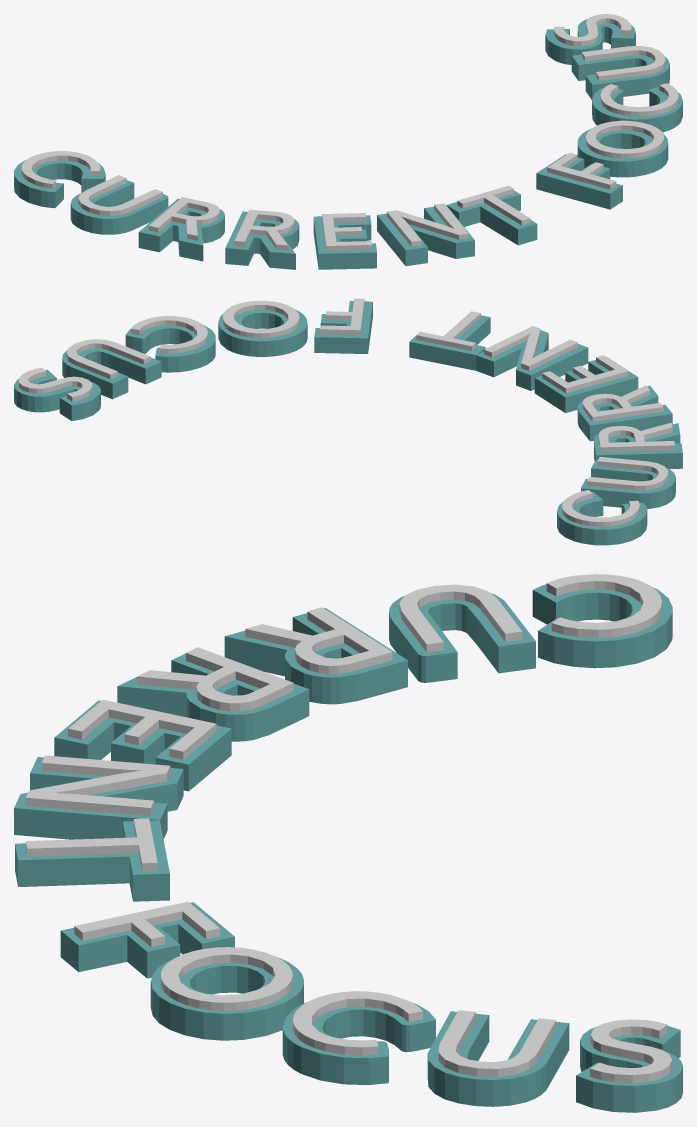
Rendered from SIDE5-title.glb.
3 views of the same model, one above another, from view 1: azimuth 30°, elevation 25°; view 2: azimuth 150°, elevation 25°; view 3: azimuth 270°, elevation 25° (orthographic). The views are drawn at different scales.
Parts seen in each view (by area): view 1: Mesh_Mesh_head_geo.001_lambert2SG.001; view 2: Mesh_Mesh_head_geo.001_lambert2SG.001; view 3: Mesh_Mesh_head_geo.001_lambert2SG.001.
Boxes of the visible parts, x1,y1,x2,y2 form: Mesh_Mesh_head_geo.001_lambert2SG.001: [14, 14, 682, 269]; Mesh_Mesh_head_geo.001_lambert2SG.001: [14, 298, 682, 545]; Mesh_Mesh_head_geo.001_lambert2SG.001: [14, 574, 682, 1112].
Size of the model in its own units: 204 by 6.51 by 113.
